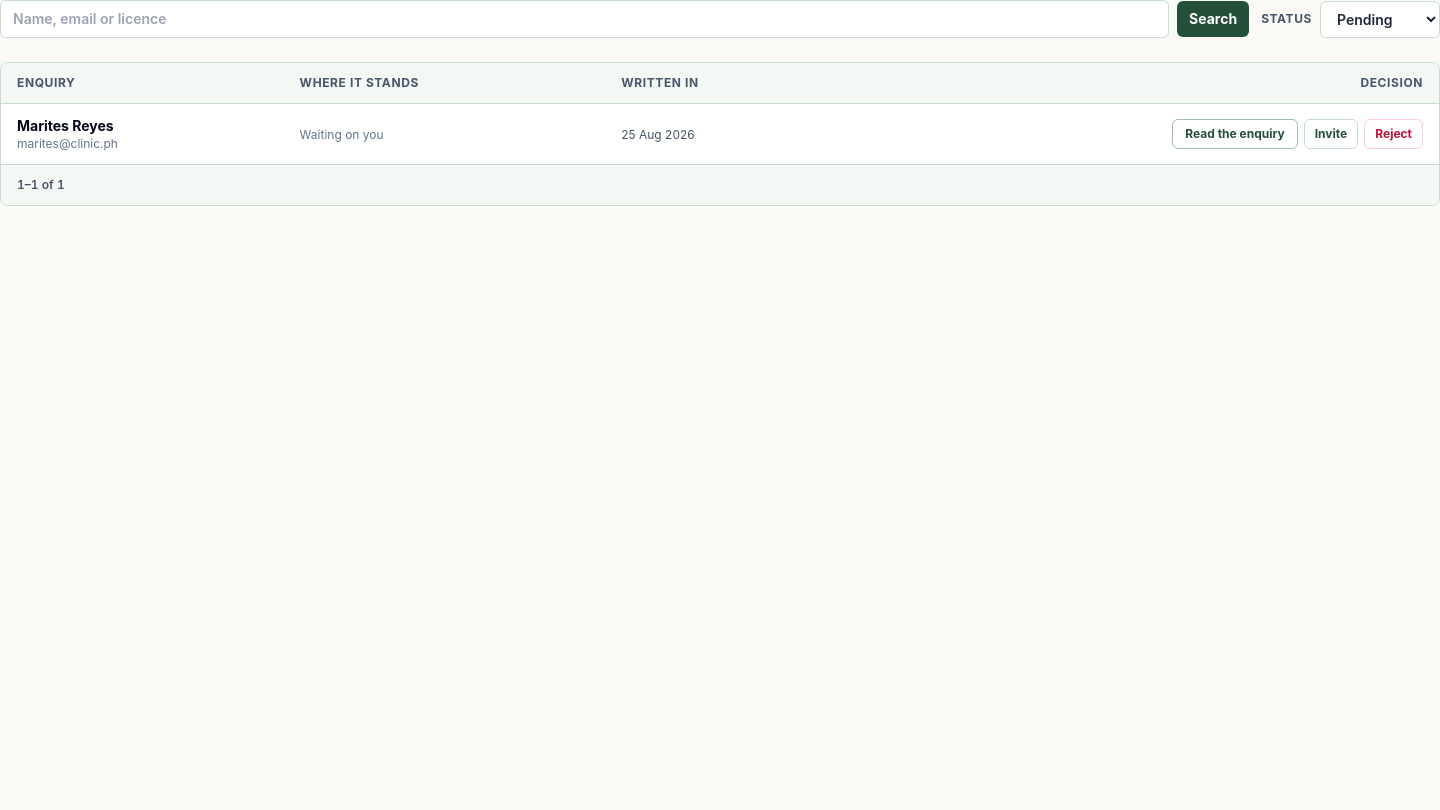
the enquiries tab › puts the queue back when the panel is closed
Click the button "Read the enquiry" at (1235, 134), box x1=1172 y1=119 x2=1298 y2=149
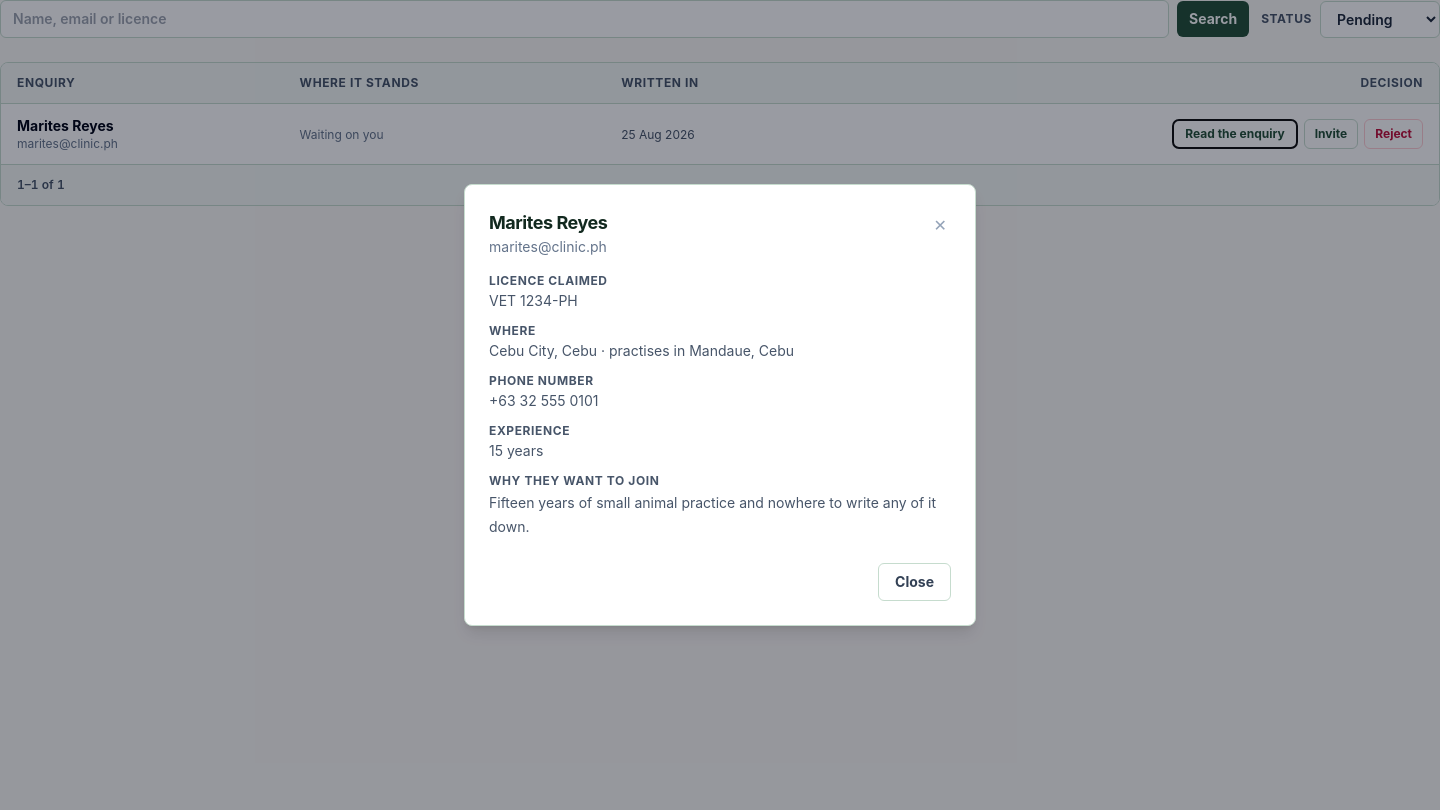
Press Escape
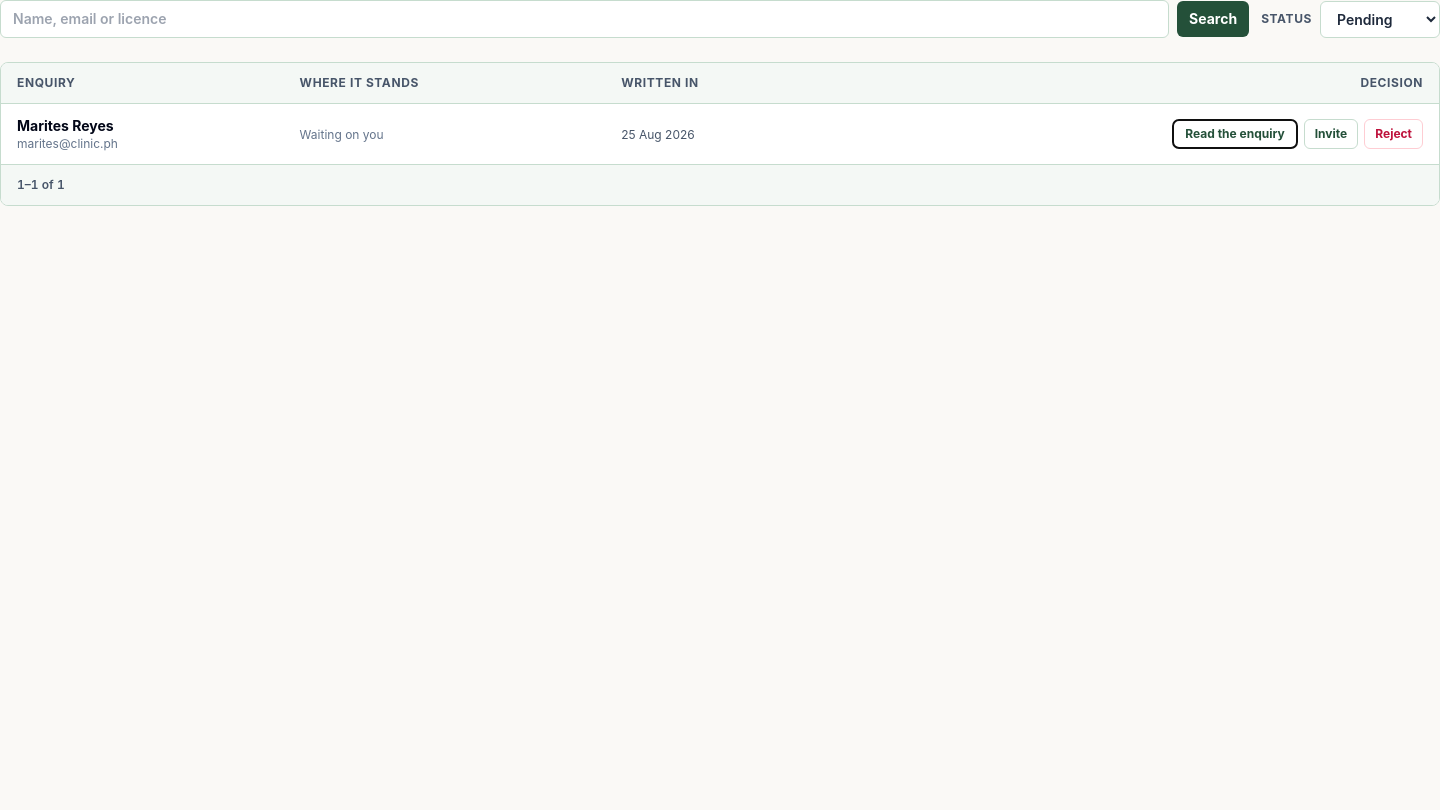
Expected: the button "Invite" is shown, x1=1304 y1=119 x2=1358 y2=149
Expected: the dialog is gone
